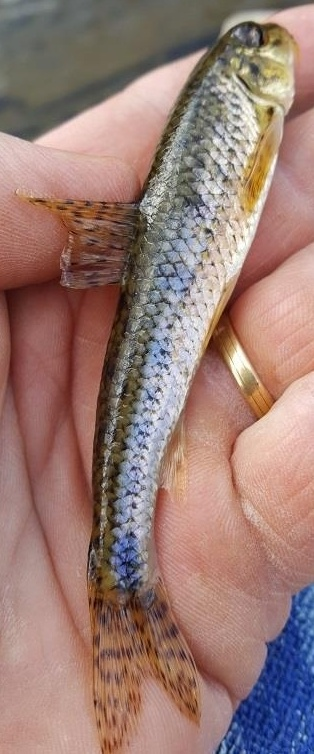Gobio gobio: (20, 20, 294, 753)
